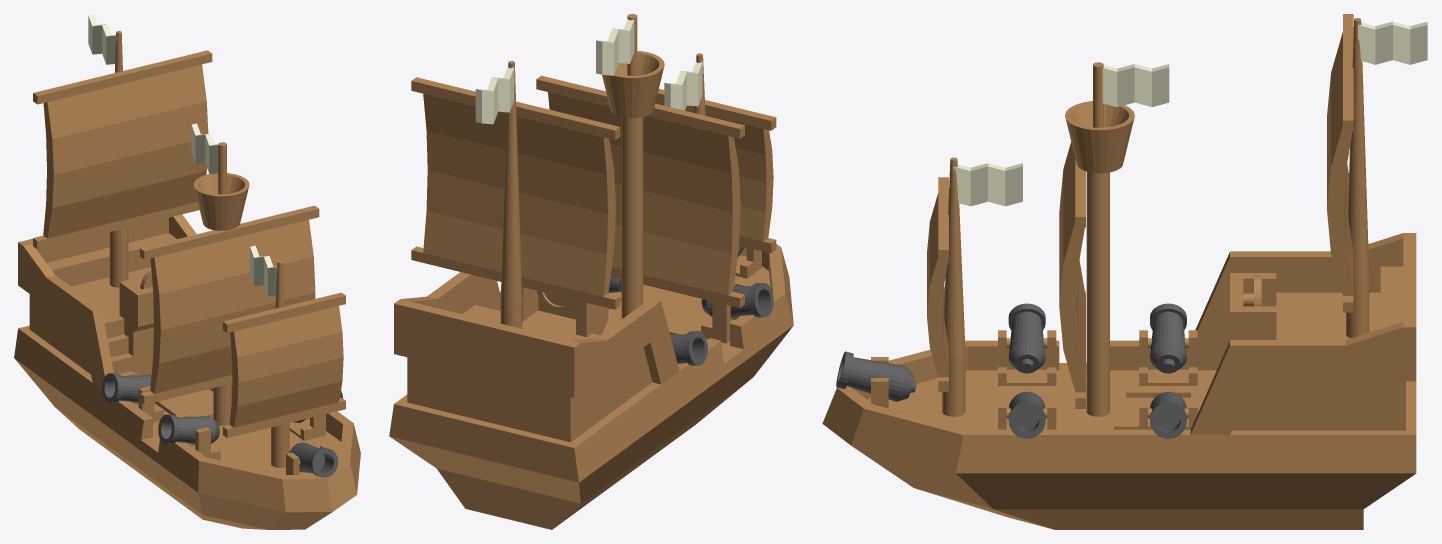
Rendered from watercraftpack_007.glb.
The picture shows the model from 3 angles, left to right: view 1: azimuth 30°, elevation 25°; view 2: azimuth 150°, elevation 25°; view 3: azimuth 270°, elevation 25°; orthographic projection. The views are drawn at different scales.
Visible parts, largest first — view 1: Mesh22 Group12 Group1 Model, Mesh15 Group17 Group12 Group1 Model, Mesh12 Group14 Group12 Group1 Model, Mesh19 Group21 Group12 Group1 Model, Mesh16 Group18 Group12 Group1 Model, Mesh14 Group16 Group12 Group1 Model, Mesh7 Group8 Cannon_right_1 Group1 Model, Mesh13 Group15 Group12 Group1 Model, Mesh5 Group6 Cannon_front Group1 Model, Mesh9 Group10 Cannon_right_2 Group1 Model, Mesh20 Group22 Group12 Group1 Model, Mesh18 Group20 Group12 Group1 Model (+5 smaller); view 2: Mesh22 Group12 Group1 Model, Mesh15 Group17 Group12 Group1 Model, Mesh12 Group14 Group12 Group1 Model, Mesh19 Group21 Group12 Group1 Model, Mesh13 Group15 Group12 Group1 Model, Mesh14 Group16 Group12 Group1 Model, Mesh16 Group18 Group12 Group1 Model, Mesh18 Group20 Group12 Group1 Model, Mesh17 Group19 Group12 Group1 Model, Mesh21 Group23 Group12 Group1 Model, Mesh7 Group8 Cannon_right_1 Group1 Model, Mesh9 Group10 Cannon_right_2 Group1 Model (+3 smaller); view 3: Mesh22 Group12 Group1 Model, Mesh13 Group15 Group12 Group1 Model, Mesh15 Group17 Group12 Group1 Model, Mesh12 Group14 Group12 Group1 Model, Mesh14 Group16 Group12 Group1 Model, Mesh20 Group22 Group12 Group1 Model, Mesh16 Group18 Group12 Group1 Model, Mesh19 Group21 Group12 Group1 Model, Mesh18 Group20 Group12 Group1 Model, Mesh17 Group19 Group12 Group1 Model, Mesh21 Group23 Group12 Group1 Model, Mesh7 Group8 Cannon_right_1 Group1 Model (+7 smaller).
Boxes of the visible parts, box(x1,y1,x2,y2) form: Mesh22 Group12 Group1 Model: box(14, 214, 360, 529); Mesh15 Group17 Group12 Group1 Model: box(33, 50, 212, 249); Mesh12 Group14 Group12 Group1 Model: box(140, 205, 319, 404); Mesh19 Group21 Group12 Group1 Model: box(223, 292, 345, 437); Mesh16 Group18 Group12 Group1 Model: box(193, 173, 249, 230); Mesh14 Group16 Group12 Group1 Model: box(109, 31, 128, 287); Mesh7 Group8 Cannon_right_1 Group1 Model: box(158, 414, 219, 444); Mesh13 Group15 Group12 Group1 Model: box(213, 142, 231, 425); Mesh5 Group6 Cannon_front Group1 Model: box(289, 442, 338, 477); Mesh9 Group10 Cannon_right_2 Group1 Model: box(101, 373, 151, 402); Mesh20 Group22 Group12 Group1 Model: box(271, 260, 289, 467); Mesh18 Group20 Group12 Group1 Model: box(88, 14, 116, 64); Mesh22 Group12 Group1 Model: box(389, 244, 793, 529); Mesh15 Group17 Group12 Group1 Model: box(411, 77, 620, 309); Mesh12 Group14 Group12 Group1 Model: box(536, 75, 744, 307); Mesh19 Group21 Group12 Group1 Model: box(655, 88, 776, 253); Mesh13 Group15 Group12 Group1 Model: box(621, 14, 643, 319); Mesh14 Group16 Group12 Group1 Model: box(500, 61, 522, 328); Mesh16 Group18 Group12 Group1 Model: box(602, 51, 664, 118); Mesh18 Group20 Group12 Group1 Model: box(475, 65, 514, 124); Mesh17 Group19 Group12 Group1 Model: box(596, 19, 634, 75); Mesh21 Group23 Group12 Group1 Model: box(664, 61, 702, 110); Mesh7 Group8 Cannon_right_1 Group1 Model: box(701, 283, 773, 317); Mesh9 Group10 Cannon_right_2 Group1 Model: box(670, 331, 707, 365); Mesh22 Group12 Group1 Model: box(822, 233, 1416, 529); Mesh13 Group15 Group12 Group1 Model: box(1086, 62, 1109, 416); Mesh15 Group17 Group12 Group1 Model: box(1327, 14, 1353, 312); Mesh12 Group14 Group12 Group1 Model: box(1059, 142, 1085, 408); Mesh14 Group16 Group12 Group1 Model: box(1346, 18, 1369, 338); Mesh20 Group22 Group12 Group1 Model: box(942, 157, 965, 416); Mesh16 Group18 Group12 Group1 Model: box(1065, 101, 1134, 173); Mesh19 Group21 Group12 Group1 Model: box(927, 177, 948, 391); Mesh18 Group20 Group12 Group1 Model: box(1358, 21, 1427, 64); Mesh17 Group19 Group12 Group1 Model: box(1102, 64, 1169, 107); Mesh21 Group23 Group12 Group1 Model: box(953, 163, 1022, 206); Mesh7 Group8 Cannon_right_1 Group1 Model: box(1008, 303, 1045, 373).
Size of the model in its own units: 3.77 by 8.01 by 9.
